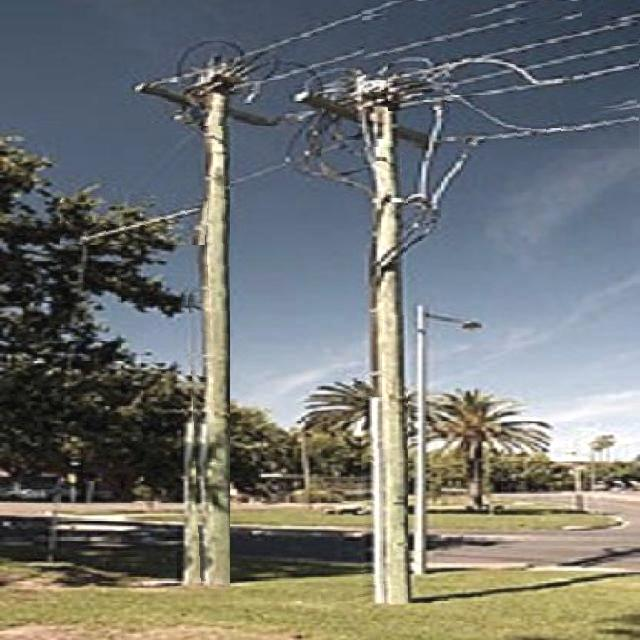crossarm: (296, 92, 428, 147), (135, 79, 275, 126)
pole: (183, 96, 230, 589), (361, 112, 408, 605)
wire: (234, 1, 544, 91), (366, 19, 638, 90), (416, 37, 640, 95), (388, 62, 639, 111), (218, 13, 430, 69), (450, 108, 639, 149), (60, 199, 208, 245)
